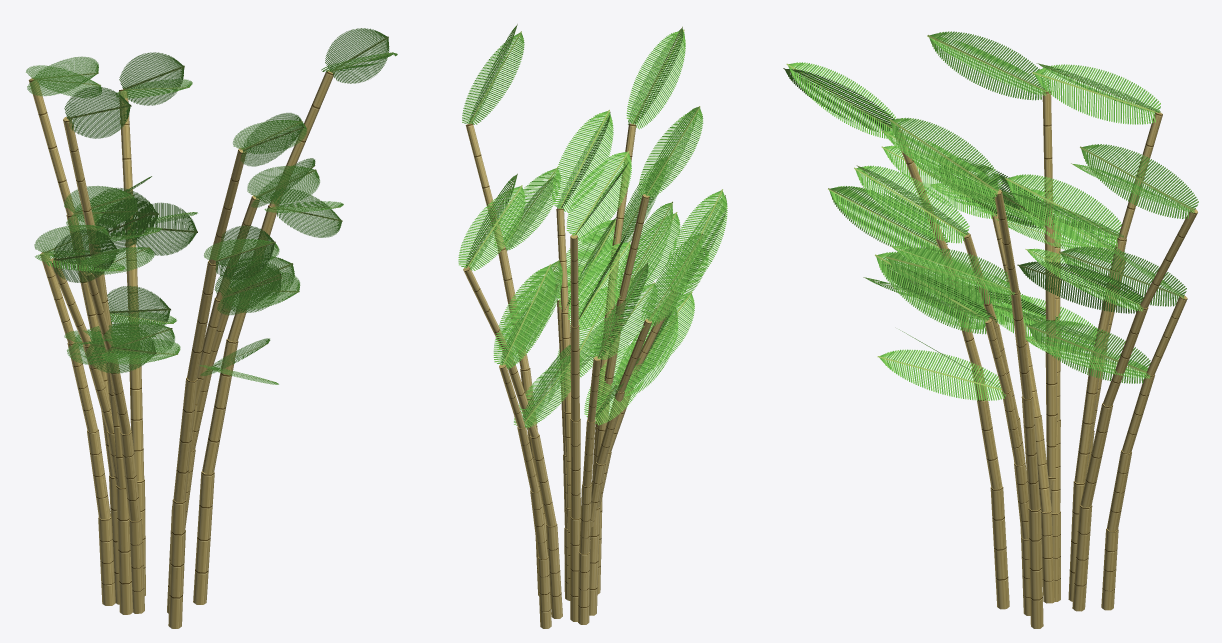
The model's file is bui_tre_1.glb.
The picture shows the model from 3 angles, left to right: view 1: azimuth 30°, elevation 25°; view 2: azimuth 150°, elevation 25°; view 3: azimuth 270°, elevation 25°; orthographic projection. The views are drawn at different scales.
Visible parts, largest first — view 1: bui_tre_1; view 2: bui_tre_1; view 3: bui_tre_1.
Boxes of the visible parts, left/top/right/bottom form: bui_tre_1: left=26, top=28, right=397, bottom=628; bui_tre_1: left=458, top=24, right=727, bottom=628; bui_tre_1: left=783, top=31, right=1198, bottom=628.
Size of the model in its own units: 0.9849 by 1.98 by 1.36.
Materials: 2 (2 with a texture image).
